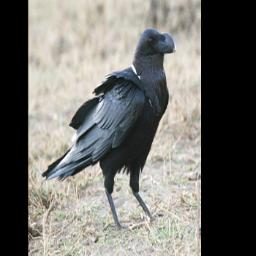Crow: (42, 28, 178, 231)
